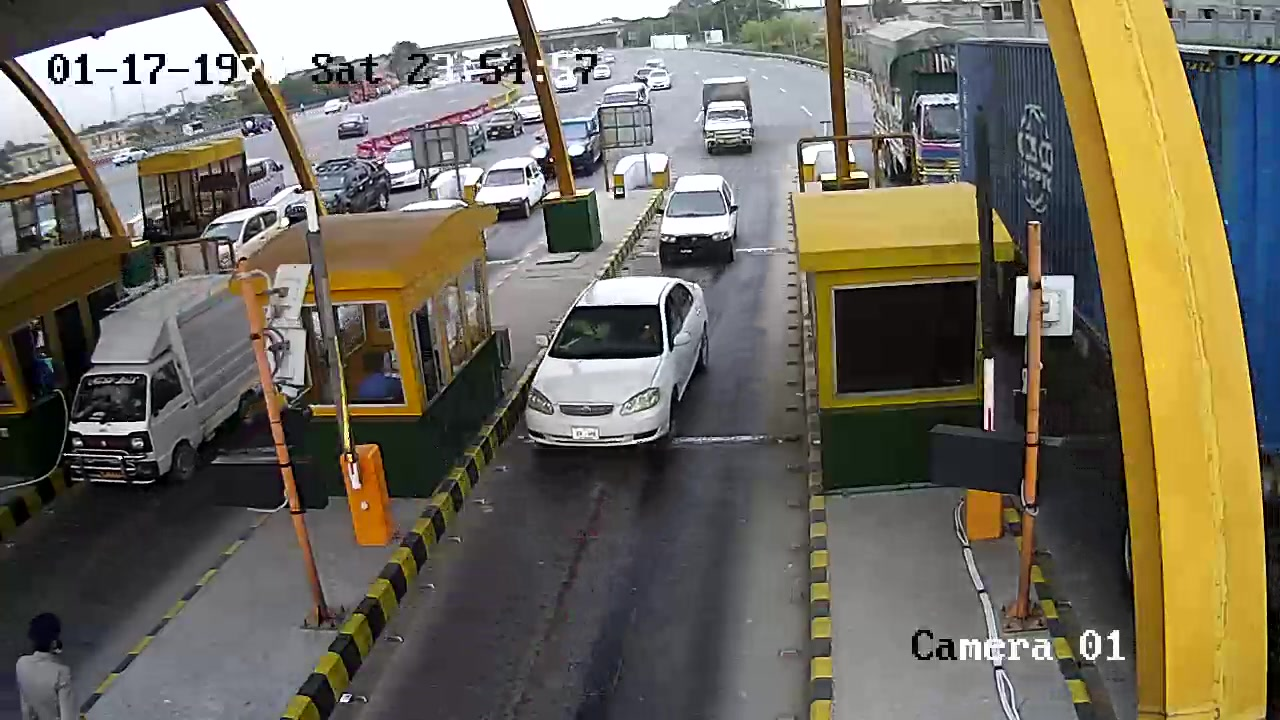F1: (521, 278, 711, 451)
